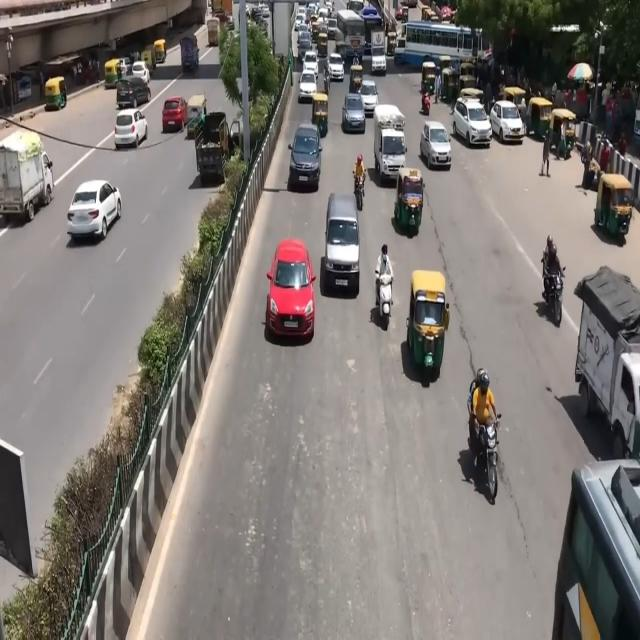auto: (407, 267, 449, 373), (594, 172, 632, 239), (394, 165, 425, 237), (549, 107, 577, 155), (528, 97, 553, 142), (310, 93, 328, 138), (44, 77, 67, 111), (503, 85, 528, 111), (104, 58, 123, 90), (421, 60, 437, 96), (459, 59, 476, 92), (349, 62, 363, 93), (206, 18, 220, 46), (153, 39, 167, 64), (141, 47, 155, 72), (317, 30, 328, 59)
bike-auto: (472, 409, 502, 501), (469, 371, 498, 451), (542, 255, 566, 325), (376, 243, 394, 309), (352, 170, 366, 211)
